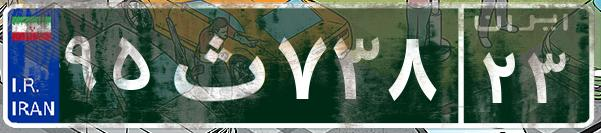2: (475, 38, 525, 113)
3: (330, 28, 385, 110), (525, 38, 570, 115)
5: (110, 28, 158, 105)
7: (273, 28, 330, 110)
8: (385, 28, 445, 110)
9: (57, 26, 110, 107)
ث: (158, 15, 273, 115)
